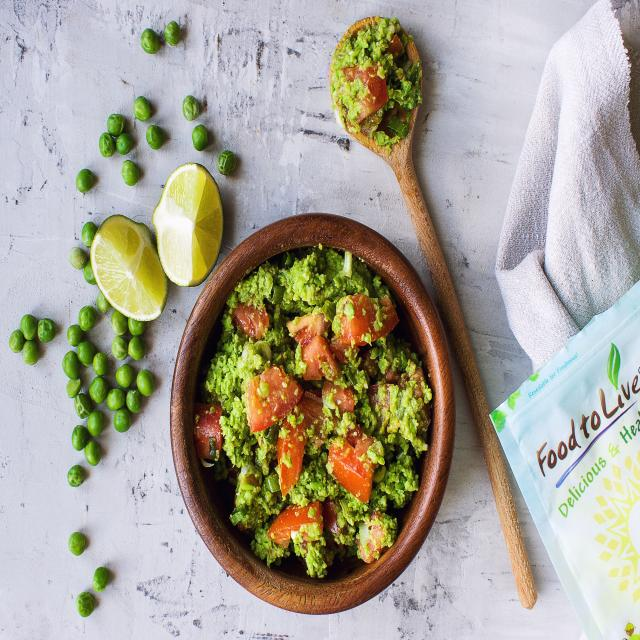Peas: (7, 308, 53, 367), (138, 17, 180, 58), (77, 588, 99, 622), (64, 529, 89, 557)
